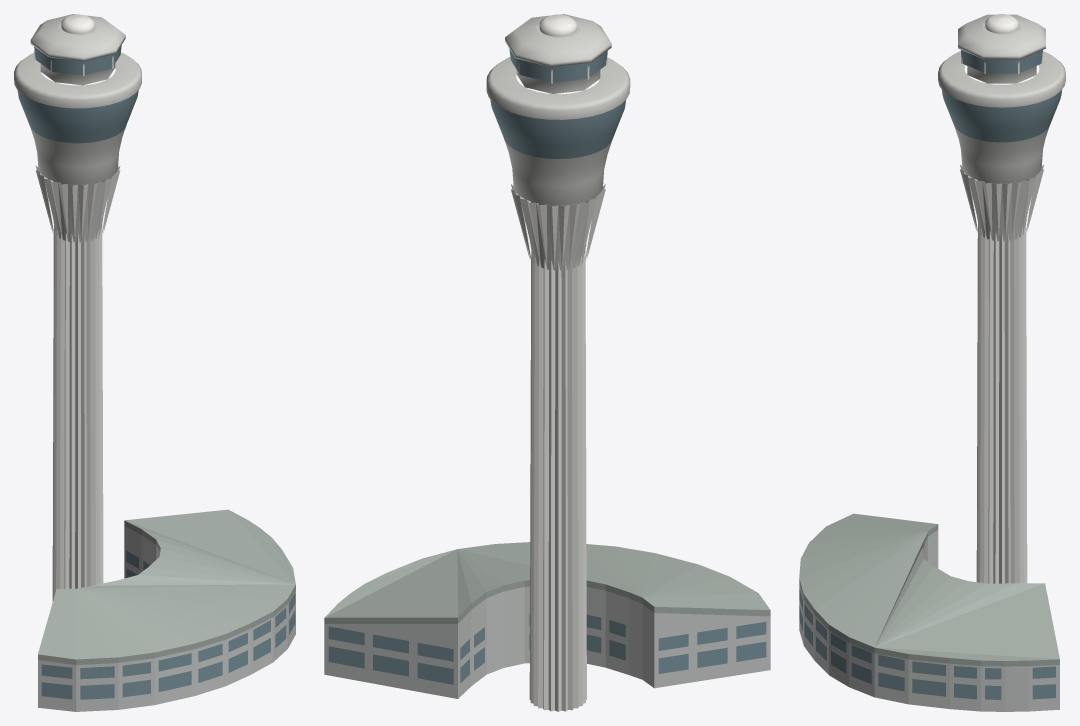
File: kl-klia-control-tower.detail.glb
The picture shows the model from 3 angles, left to right: view 1: azimuth 30°, elevation 25°; view 2: azimuth 150°, elevation 25°; view 3: azimuth 270°, elevation 25°; orthographic projection. The views are drawn at different scales.
Visible parts, largest first — view 1: KLIA Air Traffic Control Tower (Tower East); view 2: KLIA Air Traffic Control Tower (Tower East); view 3: KLIA Air Traffic Control Tower (Tower East).
Boxes of the visible parts, x1,y1,x2,y2 form: KLIA Air Traffic Control Tower (Tower East): (14, 14, 295, 711); KLIA Air Traffic Control Tower (Tower East): (324, 14, 770, 711); KLIA Air Traffic Control Tower (Tower East): (799, 14, 1065, 711).
Size of the model in its own units: 66.93 by 130 by 51.98.
